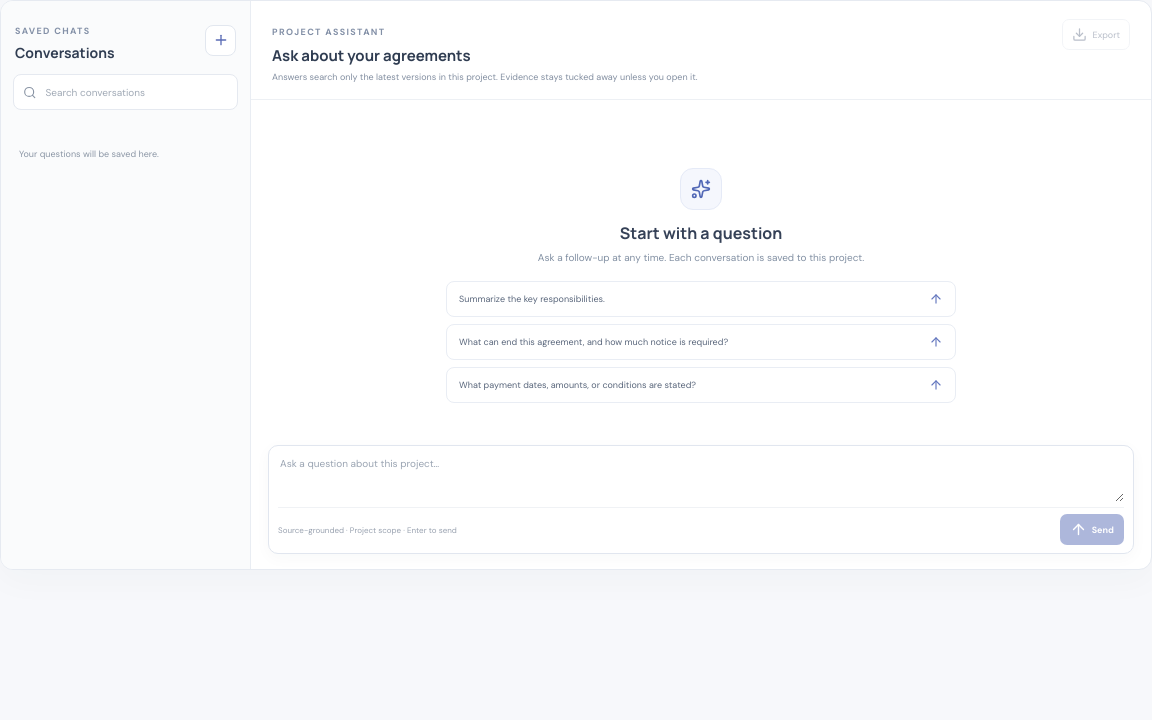
AssistantChat › creates a saved thread from a suggested prompt and restores it after sending
Click the button "Summarize the key responsibilities." at (532, 299), box [446,281,956,317]
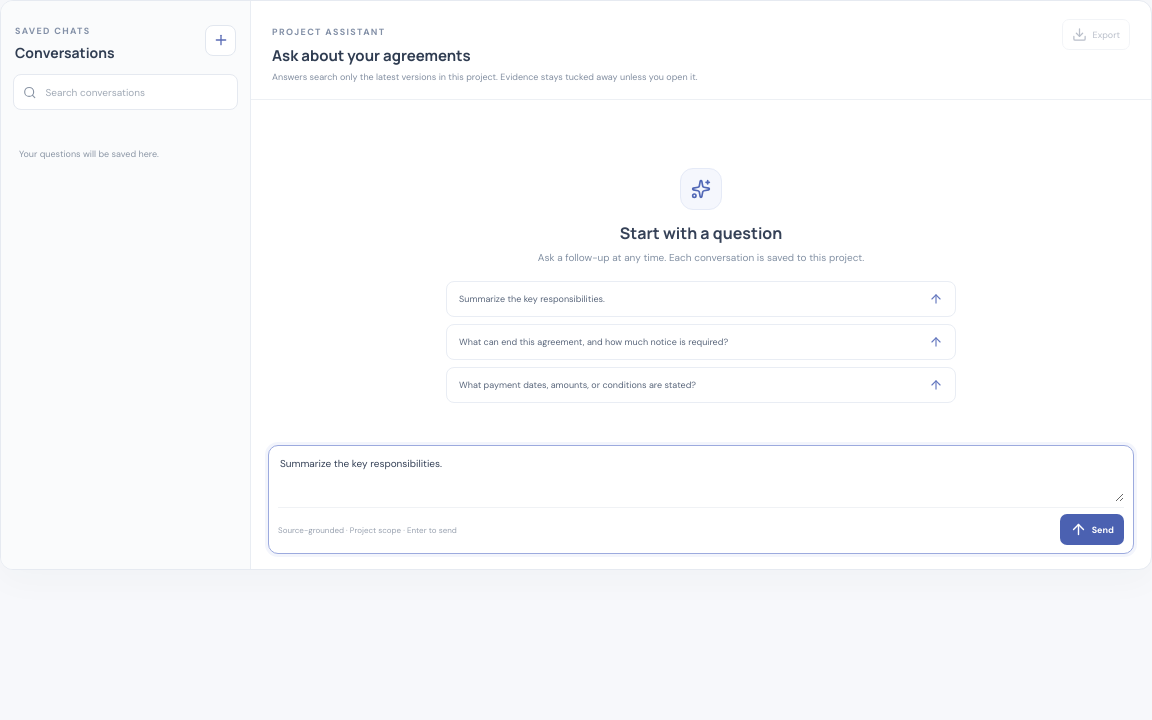
Click the button with aria-label "Send question" at (1092, 530), box [1060,514,1124,545]
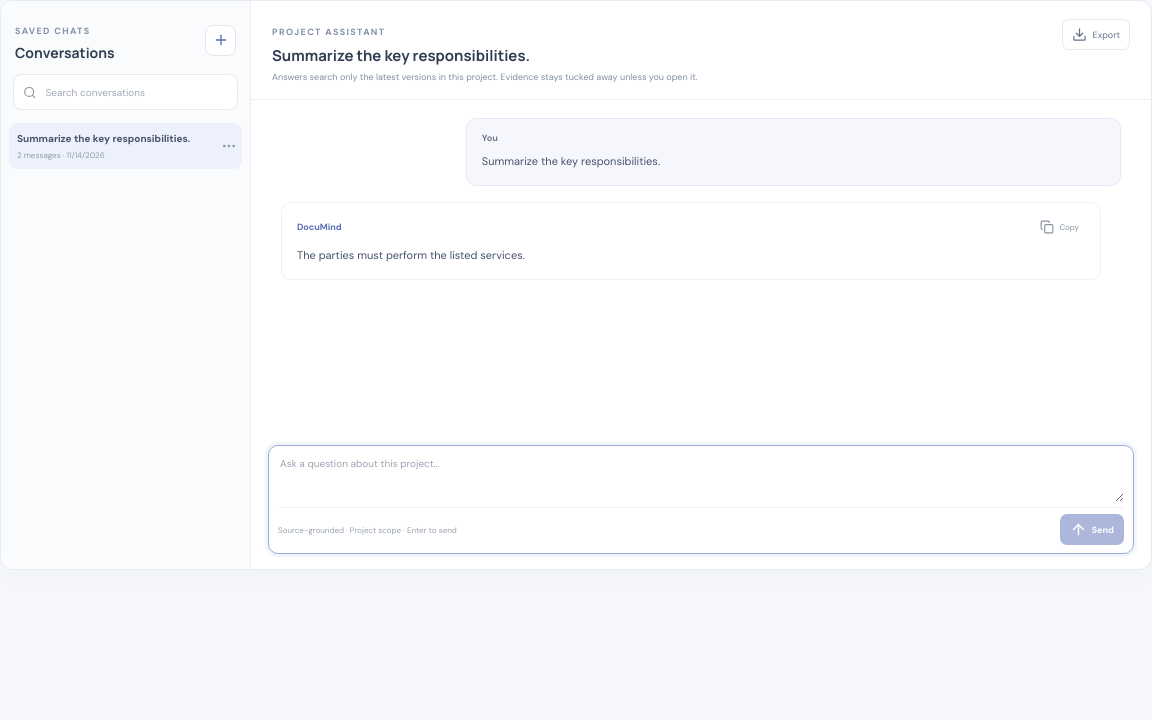
Check: the text "The parties must perform the listed services." is shown, box [297,248,525,262]
Check: the text "2 messages · 11/14/2026" is shown, box [17,150,105,160]
